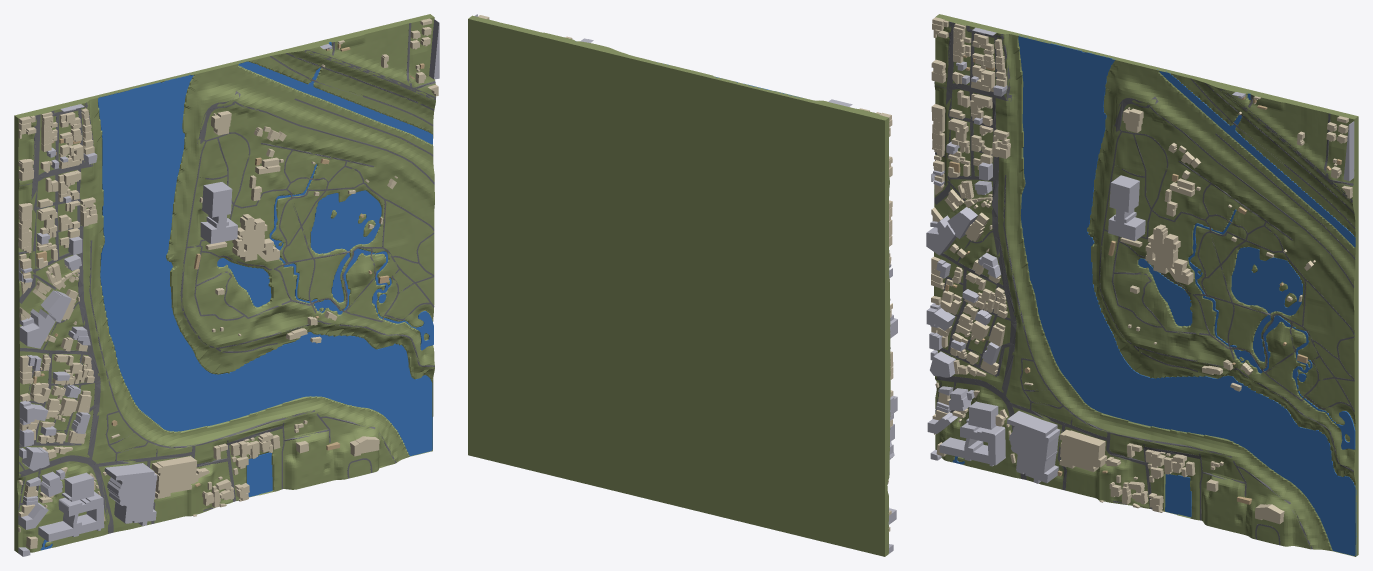
Rendered from isiyama_closeup_mm.obj.
3 renders of one model, left to right at view 1: azimuth 30°, elevation 25°; view 2: azimuth 150°, elevation 25°; view 3: azimuth 330°, elevation 25°, orthographic.
Visible parts, largest first — view 1: Terrain, Water_02, Water_05, Bldg_0312, Water_01, Bldg_0314, Bldg_0313, Bldg_0001, Bldg_0002, Water_03, Water_09, Water_08 (+4 smaller); view 2: Terrain; view 3: Terrain, Water_02, Water_05, Bldg_0312, Water_01, Bldg_0314, Bldg_0313, Bldg_0001, Bldg_0002, Water_03, Water_09, Water_08 (+4 smaller).
Part boxes in pixels (box(x1,y1,x2,y2)): Terrain: box(14, 14, 435, 552); Water_02: box(98, 75, 432, 456); Water_05: box(310, 190, 381, 302); Bldg_0312: box(104, 463, 157, 525); Water_01: box(238, 61, 432, 144); Bldg_0314: box(38, 491, 104, 541); Bldg_0313: box(200, 182, 237, 243); Bldg_0001: box(232, 214, 279, 261); Bldg_0002: box(151, 456, 198, 498); Water_03: box(314, 248, 433, 350); Water_09: box(217, 258, 271, 307); Water_08: box(246, 452, 272, 496); Terrain: box(468, 15, 890, 556); Terrain: box(934, 14, 1358, 556); Water_02: box(1018, 35, 1356, 556); Water_05: box(1231, 247, 1302, 361); Bldg_0312: box(1007, 411, 1060, 483); Water_01: box(1157, 69, 1355, 247); Bldg_0314: box(939, 422, 1005, 466); Bldg_0313: box(1108, 175, 1145, 240); Bldg_0001: box(1145, 224, 1193, 284); Bldg_0002: box(1059, 429, 1107, 471); Water_03: box(1234, 315, 1355, 449); Water_09: box(1138, 258, 1192, 326); Water_08: box(1165, 474, 1191, 517).
Bounding box in the file's own units: 600000 × 600000 × 43242.
